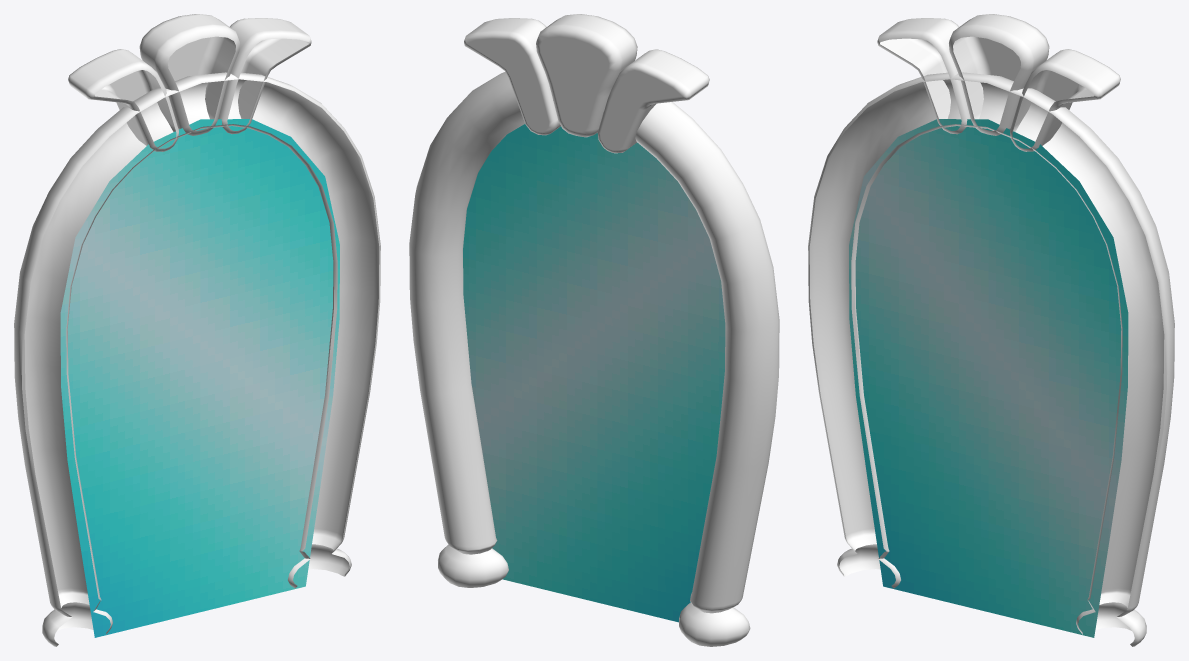
File: wizard_portal.fbx
3 renders of one model, left to right at view 1: azimuth 30°, elevation 25°; view 2: azimuth 150°, elevation 25°; view 3: azimuth 330°, elevation 25°, orthographic.
Visible parts, largest first — view 1: m_wizard_portal_02, m_wizard_portal_01; view 2: m_wizard_portal_02, m_wizard_portal_01; view 3: m_wizard_portal_02, m_wizard_portal_01.
Boxes of the visible parts, box(x1,y1,x2,y2) form: m_wizard_portal_02: box(60, 119, 339, 637); m_wizard_portal_01: box(14, 14, 380, 646); m_wizard_portal_02: box(463, 124, 725, 622); m_wizard_portal_01: box(409, 14, 779, 646); m_wizard_portal_02: box(849, 119, 1128, 637); m_wizard_portal_01: box(808, 14, 1174, 646).
Size of the model in its own units: 1.3 by 2.01 by 0.1516.
